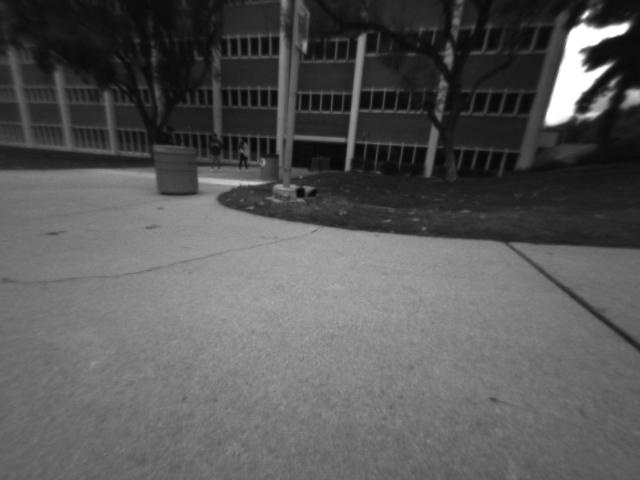trashcan: (153, 142, 201, 199), (253, 151, 278, 187)
